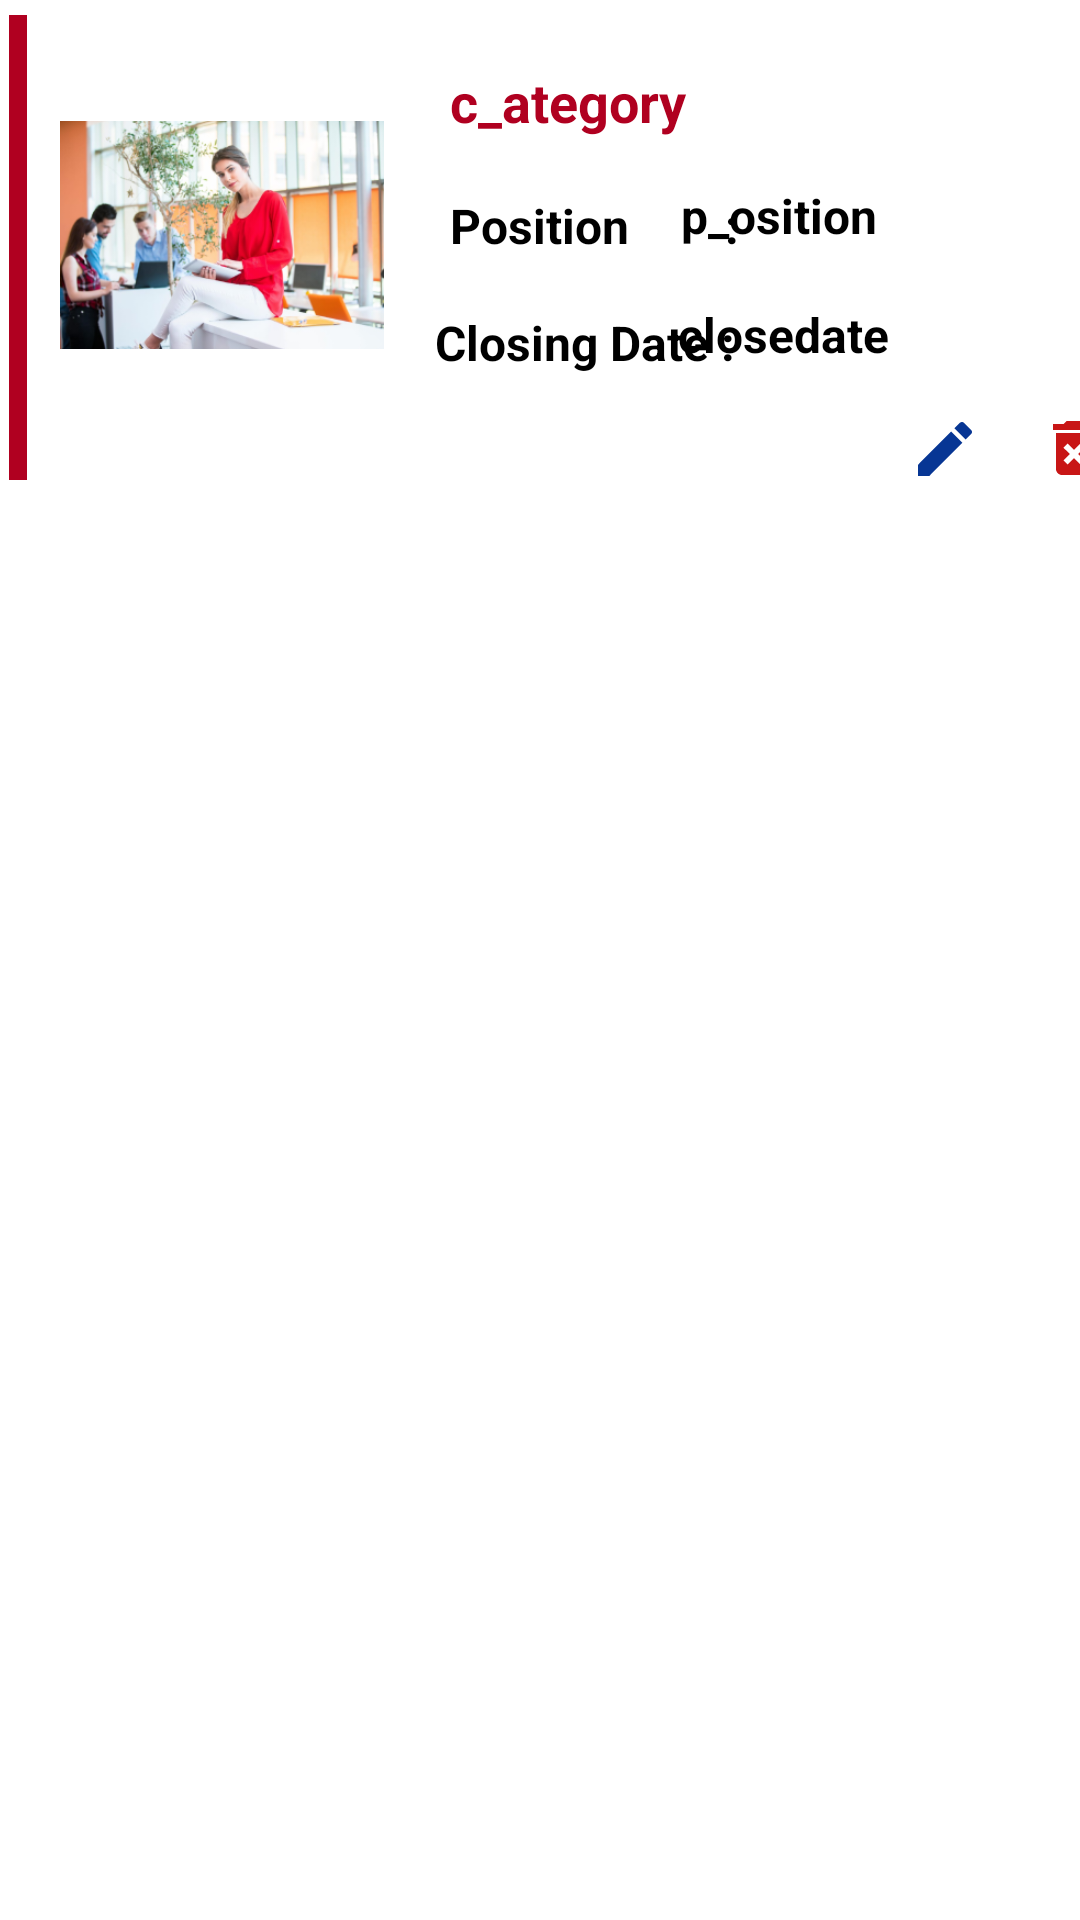

Screen size 1080x1920. Icon name, then its center in pixels as point (x, y):
edit: point (945, 449)
joblistimage: point (222, 235)
